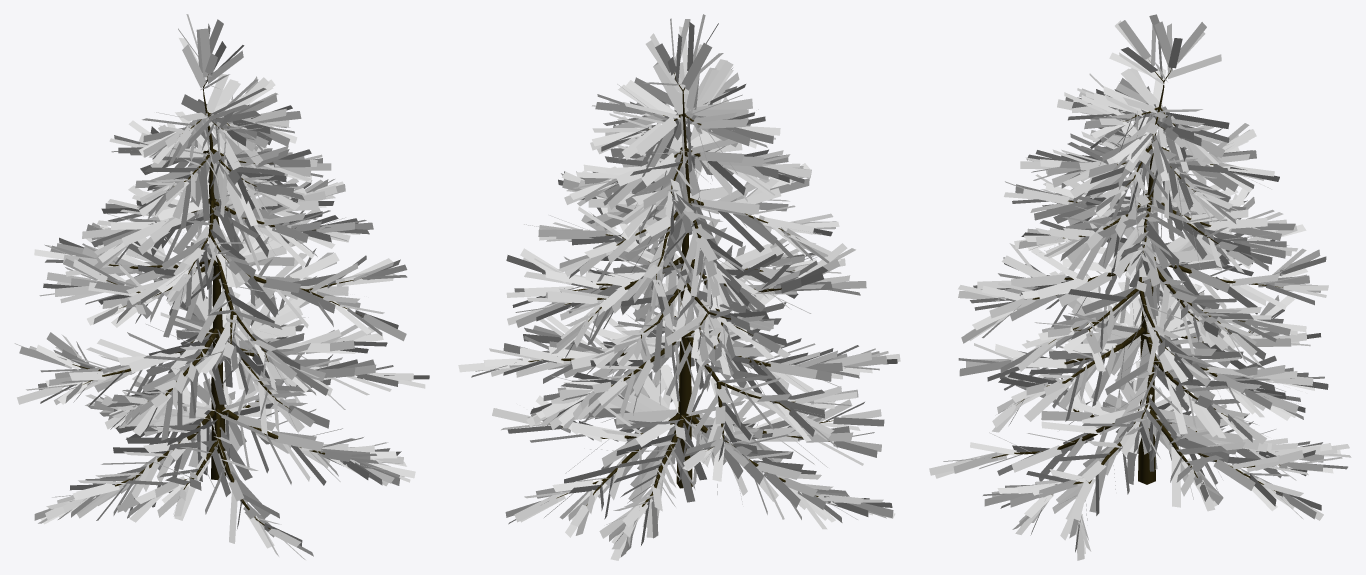
Rendered from LowPolyTree2.fbx.
The picture shows the model from 3 angles, left to right: view 1: azimuth 30°, elevation 25°; view 2: azimuth 150°, elevation 25°; view 3: azimuth 270°, elevation 25°; orthographic projection. The views are drawn at different scales.
Parts seen in each view (by area): view 1: tree; view 2: tree; view 3: tree.
Boxes of the visible parts, x1=… form: tree: x1=14, y1=14, x2=429, y2=559; tree: x1=458, y1=14, x2=900, y2=560; tree: x1=929, y1=14, x2=1351, y2=560.
Size of the model in its own units: 1231 by 1573 by 1245.
